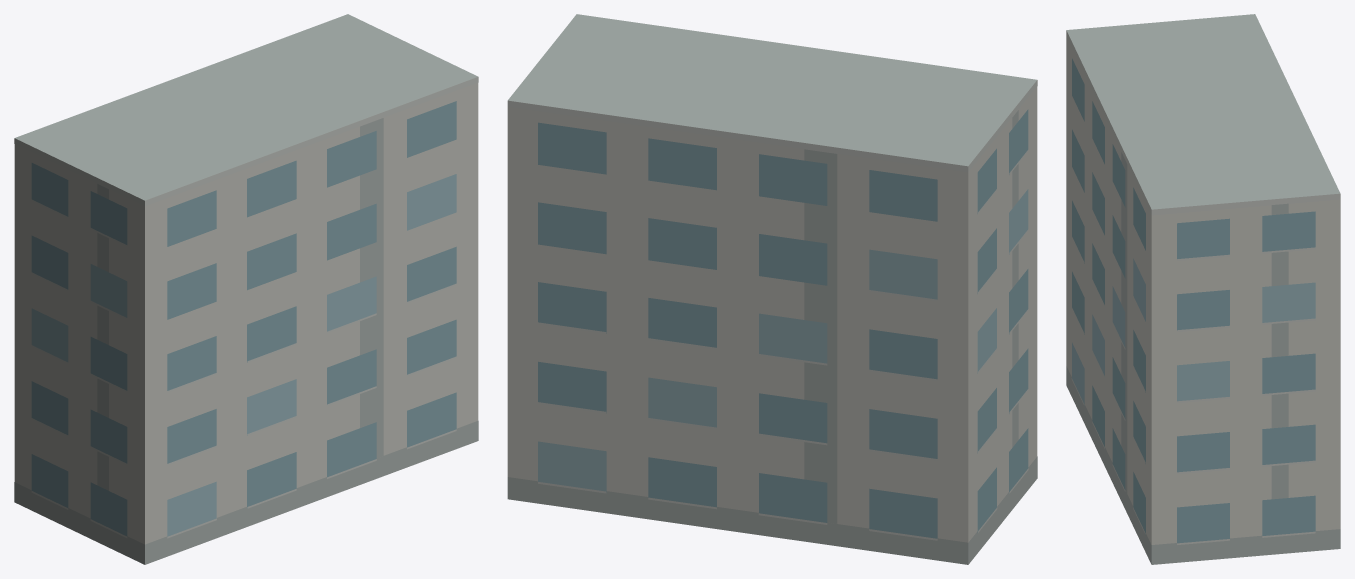
File: residential-0e2c66d7-88b0-4838-91c7-f08ebafeca97.glb
The picture shows the model from 3 angles, left to right: view 1: azimuth 30°, elevation 25°; view 2: azimuth 150°, elevation 25°; view 3: azimuth 270°, elevation 25°; orthographic projection. The views are drawn at different scales.
Visible parts, largest first — view 1: residential-0e2c66d7-88b0-4838-91c7-f08ebafeca97.tmp; view 2: residential-0e2c66d7-88b0-4838-91c7-f08ebafeca97.tmp; view 3: residential-0e2c66d7-88b0-4838-91c7-f08ebafeca97.tmp.
Boxes of the visible parts, bbox=[...] form: residential-0e2c66d7-88b0-4838-91c7-f08ebafeca97.tmp: bbox=[14, 14, 478, 564]; residential-0e2c66d7-88b0-4838-91c7-f08ebafeca97.tmp: bbox=[507, 14, 1037, 564]; residential-0e2c66d7-88b0-4838-91c7-f08ebafeca97.tmp: bbox=[1066, 14, 1340, 564].
Size of the model in its own units: 18.02 by 15.25 by 10.68.
